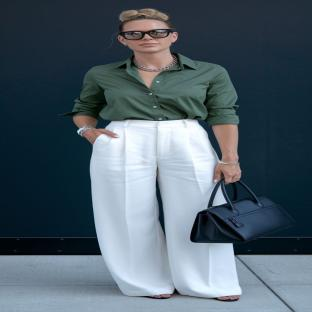Human: (62, 9, 241, 301)
